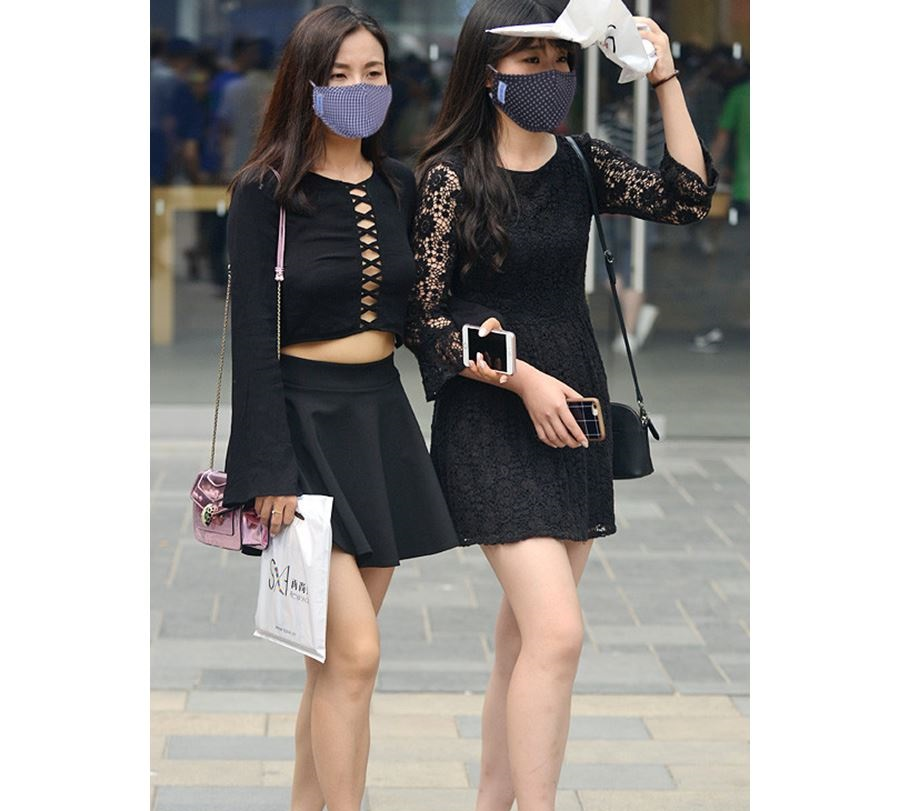face_mask: (498, 29, 574, 127), (316, 34, 389, 134)
